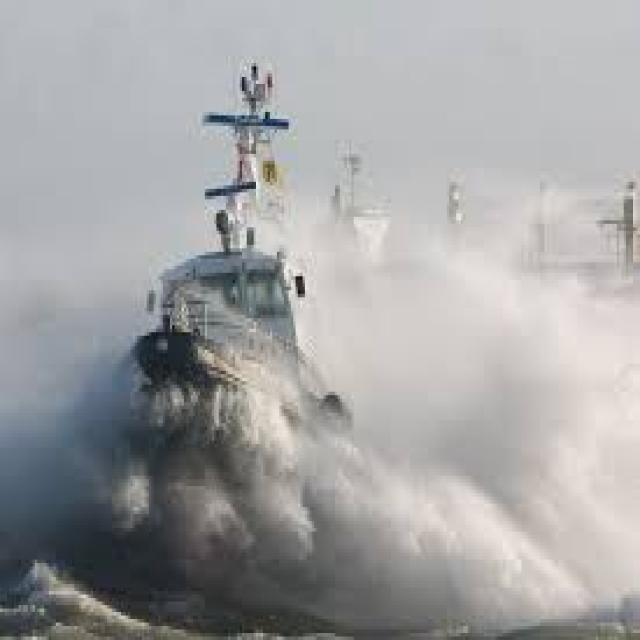navalvessels: (106, 67, 378, 594)
